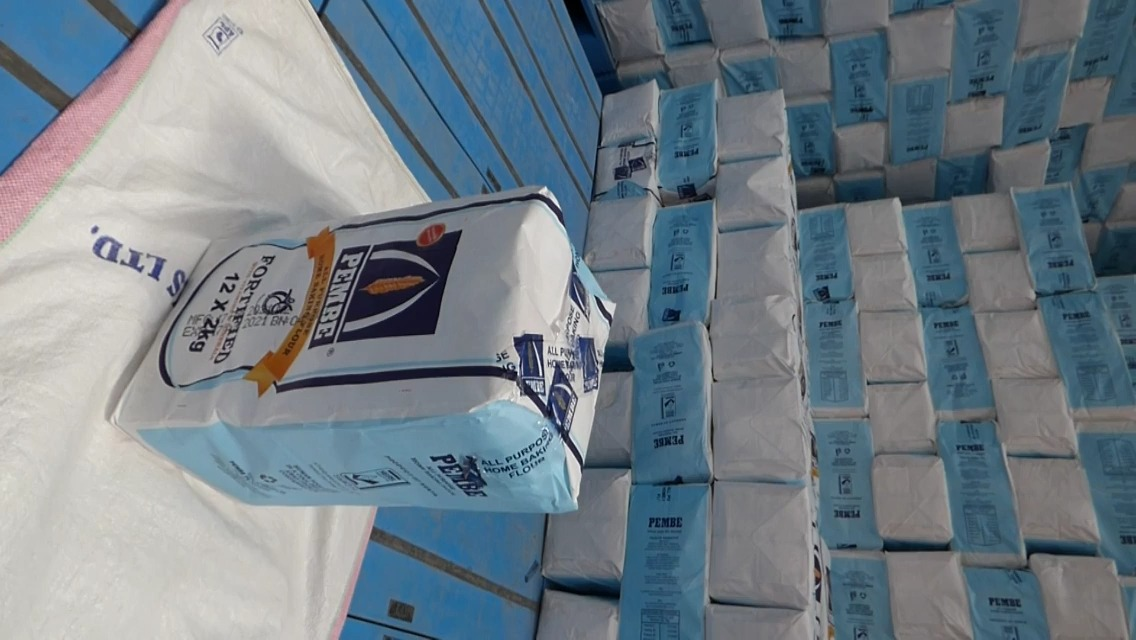wheat_flour_blue_label: (60, 189, 111, 640)
